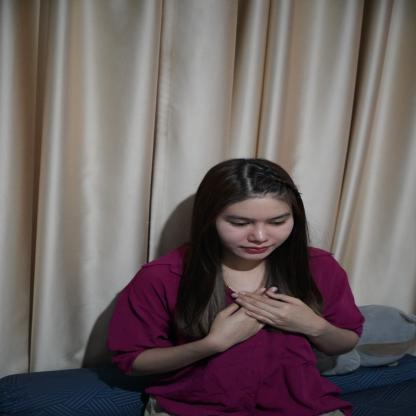Grieve: (190, 284, 326, 356)
